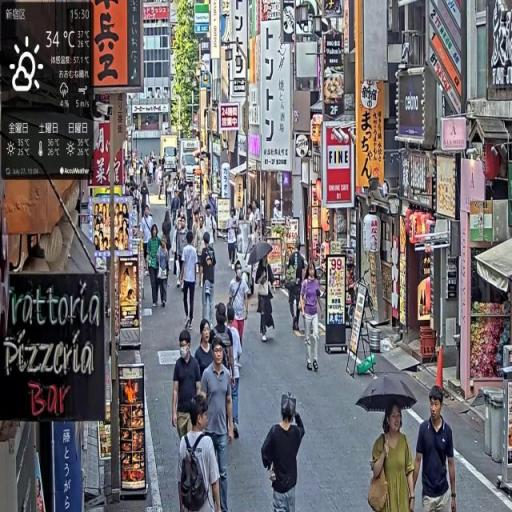person: (199, 338, 238, 511), (412, 385, 459, 512), (179, 390, 224, 512), (260, 393, 306, 512), (369, 399, 417, 512), (172, 329, 203, 445), (300, 259, 325, 376), (228, 261, 253, 355), (180, 231, 201, 332), (287, 239, 308, 333), (200, 231, 219, 333), (255, 261, 277, 345), (147, 224, 163, 309), (156, 235, 171, 312), (227, 211, 240, 271)
